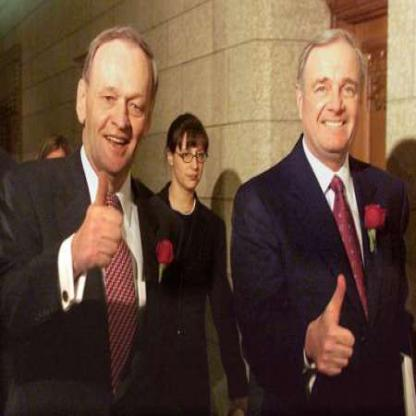face: (88, 36, 153, 176), (303, 33, 367, 155), (175, 120, 207, 192)
